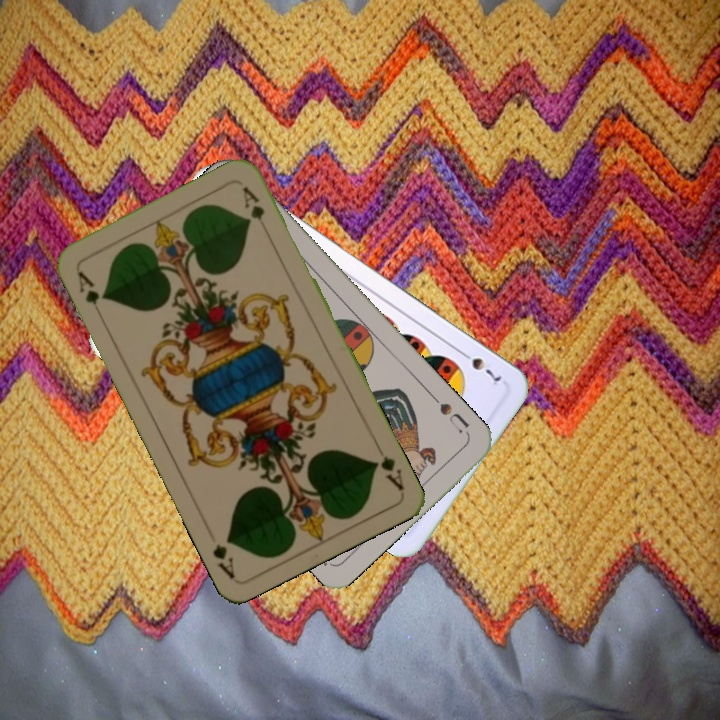GA: (369, 439, 406, 493), (72, 265, 108, 308)
S7: (455, 346, 505, 385)
SU: (427, 391, 472, 436)
